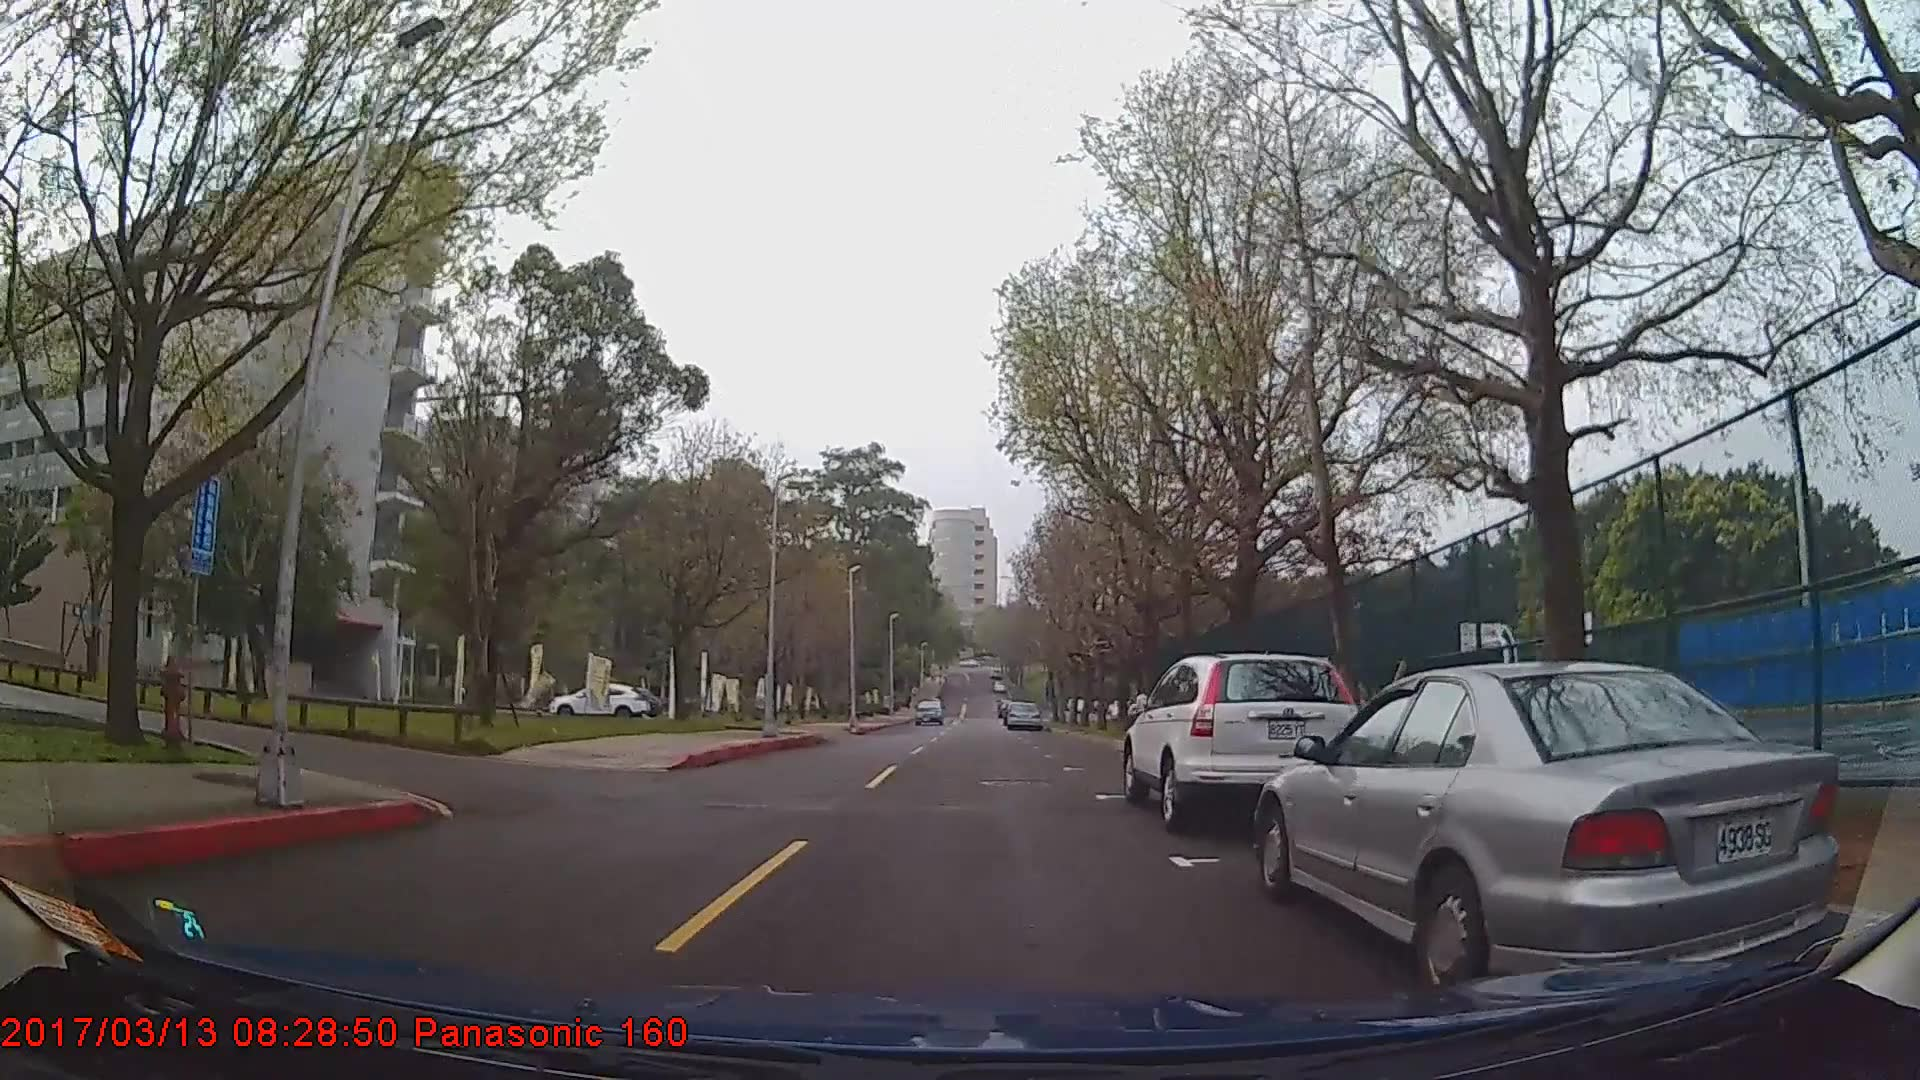vehicle: (1254, 659, 1842, 997), (1122, 654, 1364, 831), (550, 680, 651, 719), (1004, 698, 1040, 731), (913, 694, 943, 723)
